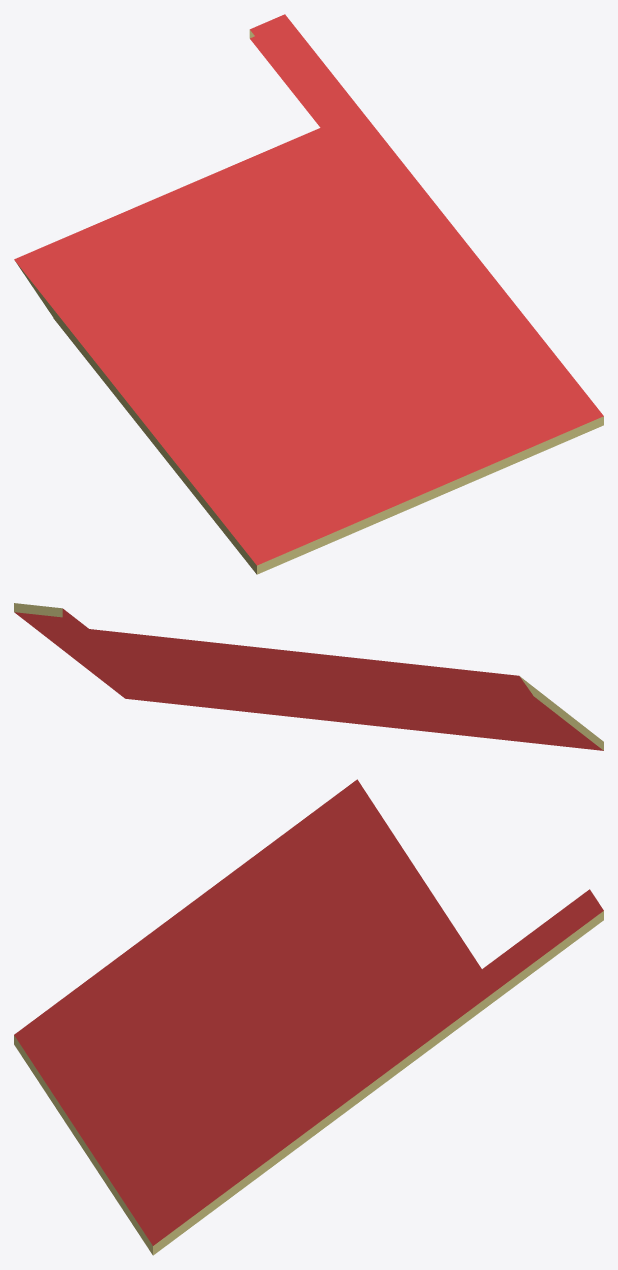
3 views of the same model, one above another, from view 1: azimuth 30°, elevation 25°; view 2: azimuth 150°, elevation 25°; view 3: azimuth 270°, elevation 25° (orthographic). The views are drawn at different scales.
Bounding box in the file's own units: 5.64 × 5.59 × 3.05.
